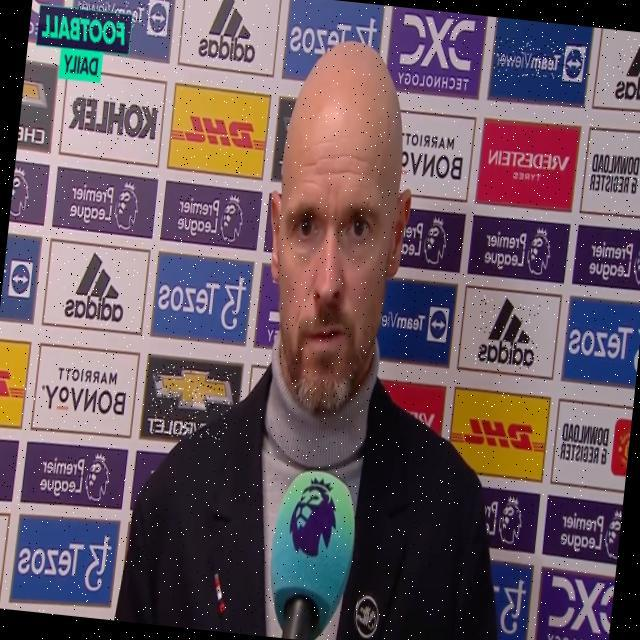Adidas: (60, 247, 131, 327), (475, 294, 542, 370), (196, 0, 263, 67), (611, 29, 640, 105)
Chevrolet: (145, 362, 235, 443)
Kohler: (67, 92, 159, 143)
TeamViewer: (493, 36, 586, 83), (75, 0, 169, 38)
